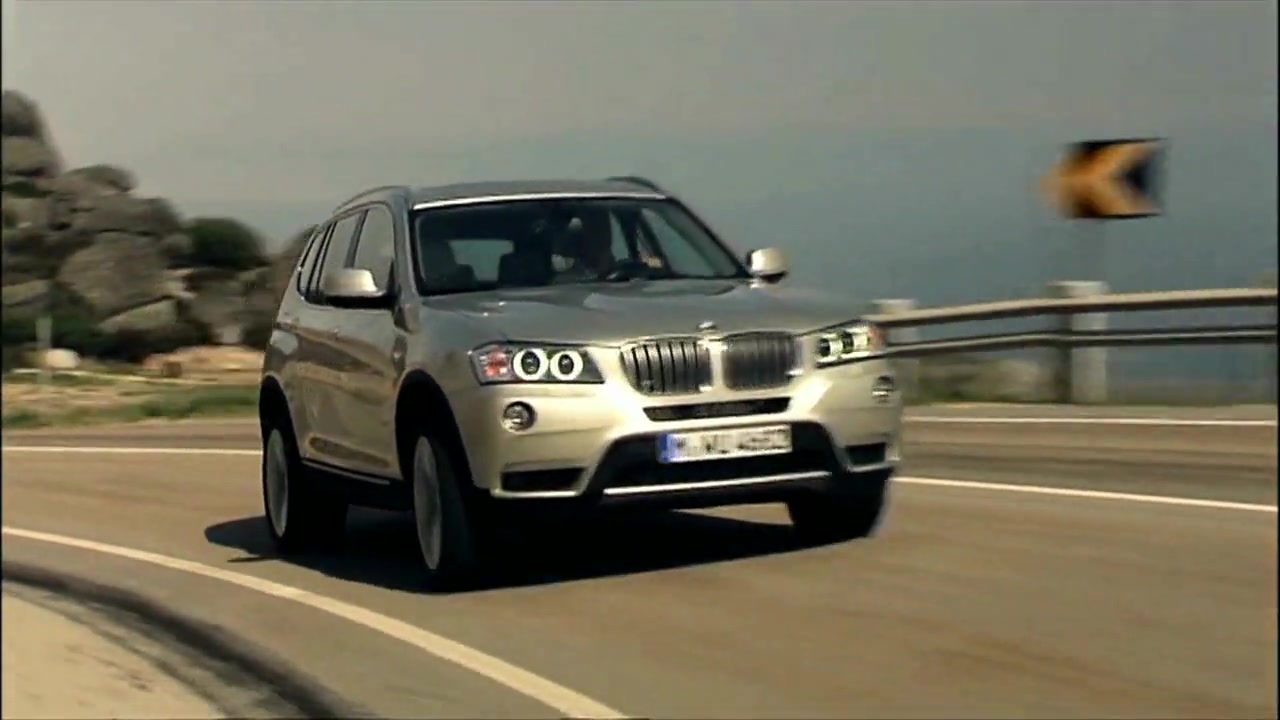car: (251, 170, 907, 583)
